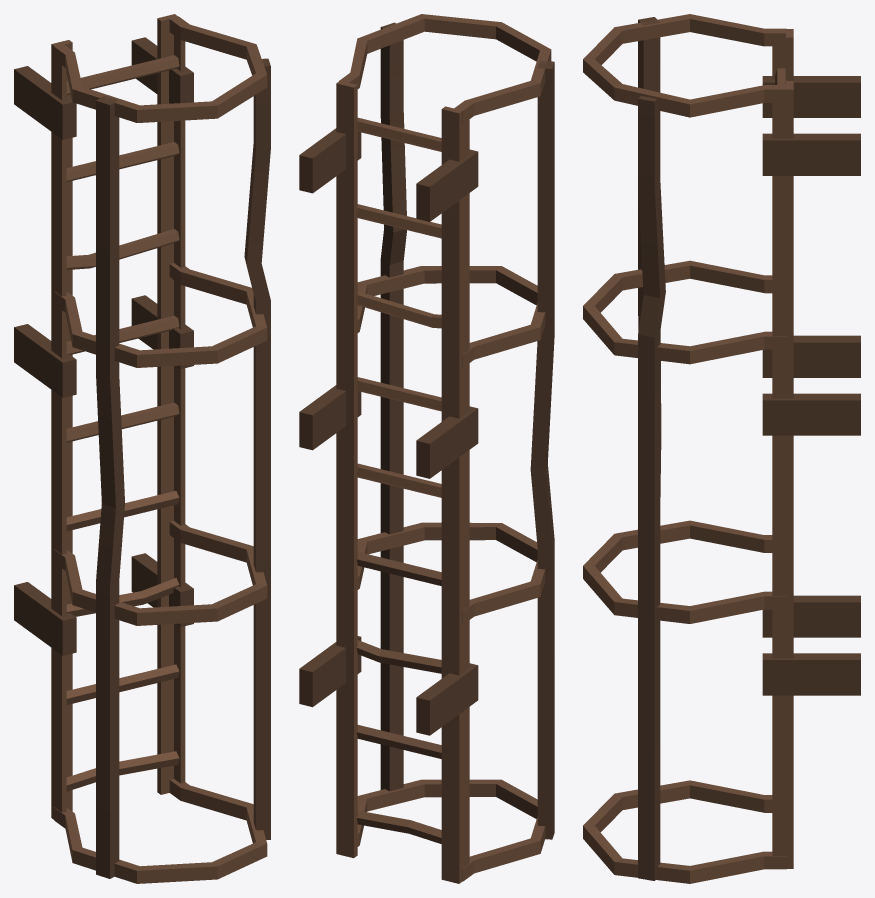
File: SM_Prop_Ladder_03.obj
The picture shows the model from 3 angles, left to right: view 1: azimuth 30°, elevation 25°; view 2: azimuth 150°, elevation 25°; view 3: azimuth 270°, elevation 25°; orthographic projection.
Parts seen in each view (by area): view 1: SM_Prop_Ladder_03_0; view 2: SM_Prop_Ladder_03_0; view 3: SM_Prop_Ladder_03_0.
Part boxes in pixels (x1,y1,x2,y2): SM_Prop_Ladder_03_0: (14,14,270,883); SM_Prop_Ladder_03_0: (299,14,554,883); SM_Prop_Ladder_03_0: (583,14,860,883).
Bounding box in the file's own units: 0.7467 × 3.03 × 0.9693.
1 material, 1 textured.
